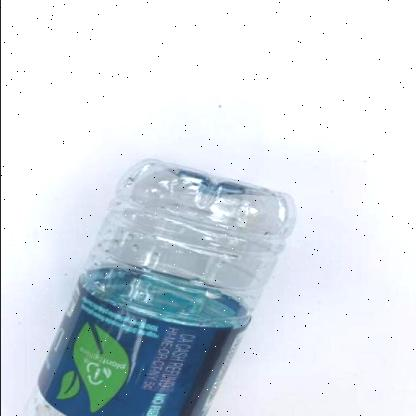Plastic Bottle: (40, 160, 294, 416)
